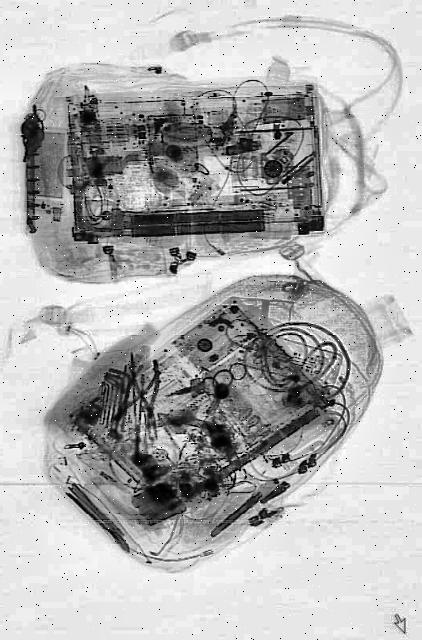Pliers: (109, 356, 163, 432), (130, 348, 170, 448)
